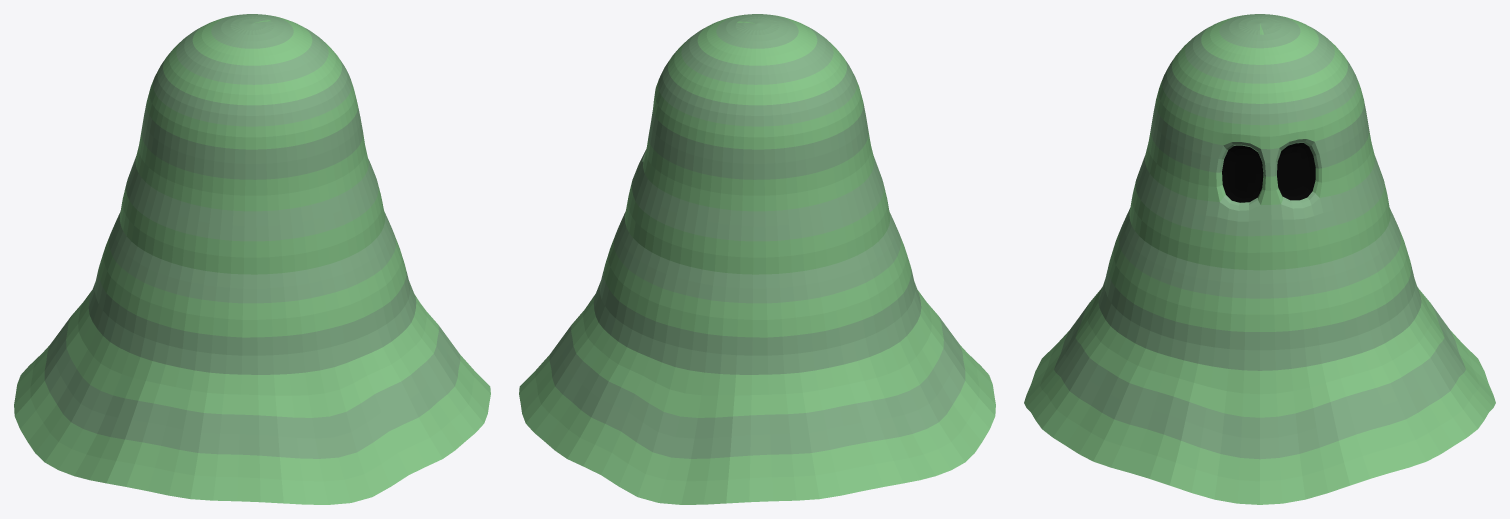
The model's file is Ghost.fbx.
The picture shows the model from 3 angles, left to right: view 1: azimuth 30°, elevation 25°; view 2: azimuth 150°, elevation 25°; view 3: azimuth 270°, elevation 25°; orthographic projection.
Visible parts, largest first — view 1: Ghost; view 2: Ghost; view 3: Ghost.
Part boxes in pixels (x1,y1,x2,y2): Ghost: (14,14,490,504); Ghost: (519,14,995,504); Ghost: (1024,14,1495,504).
Size of the model in its own units: 1601 by 1429 by 1601.
